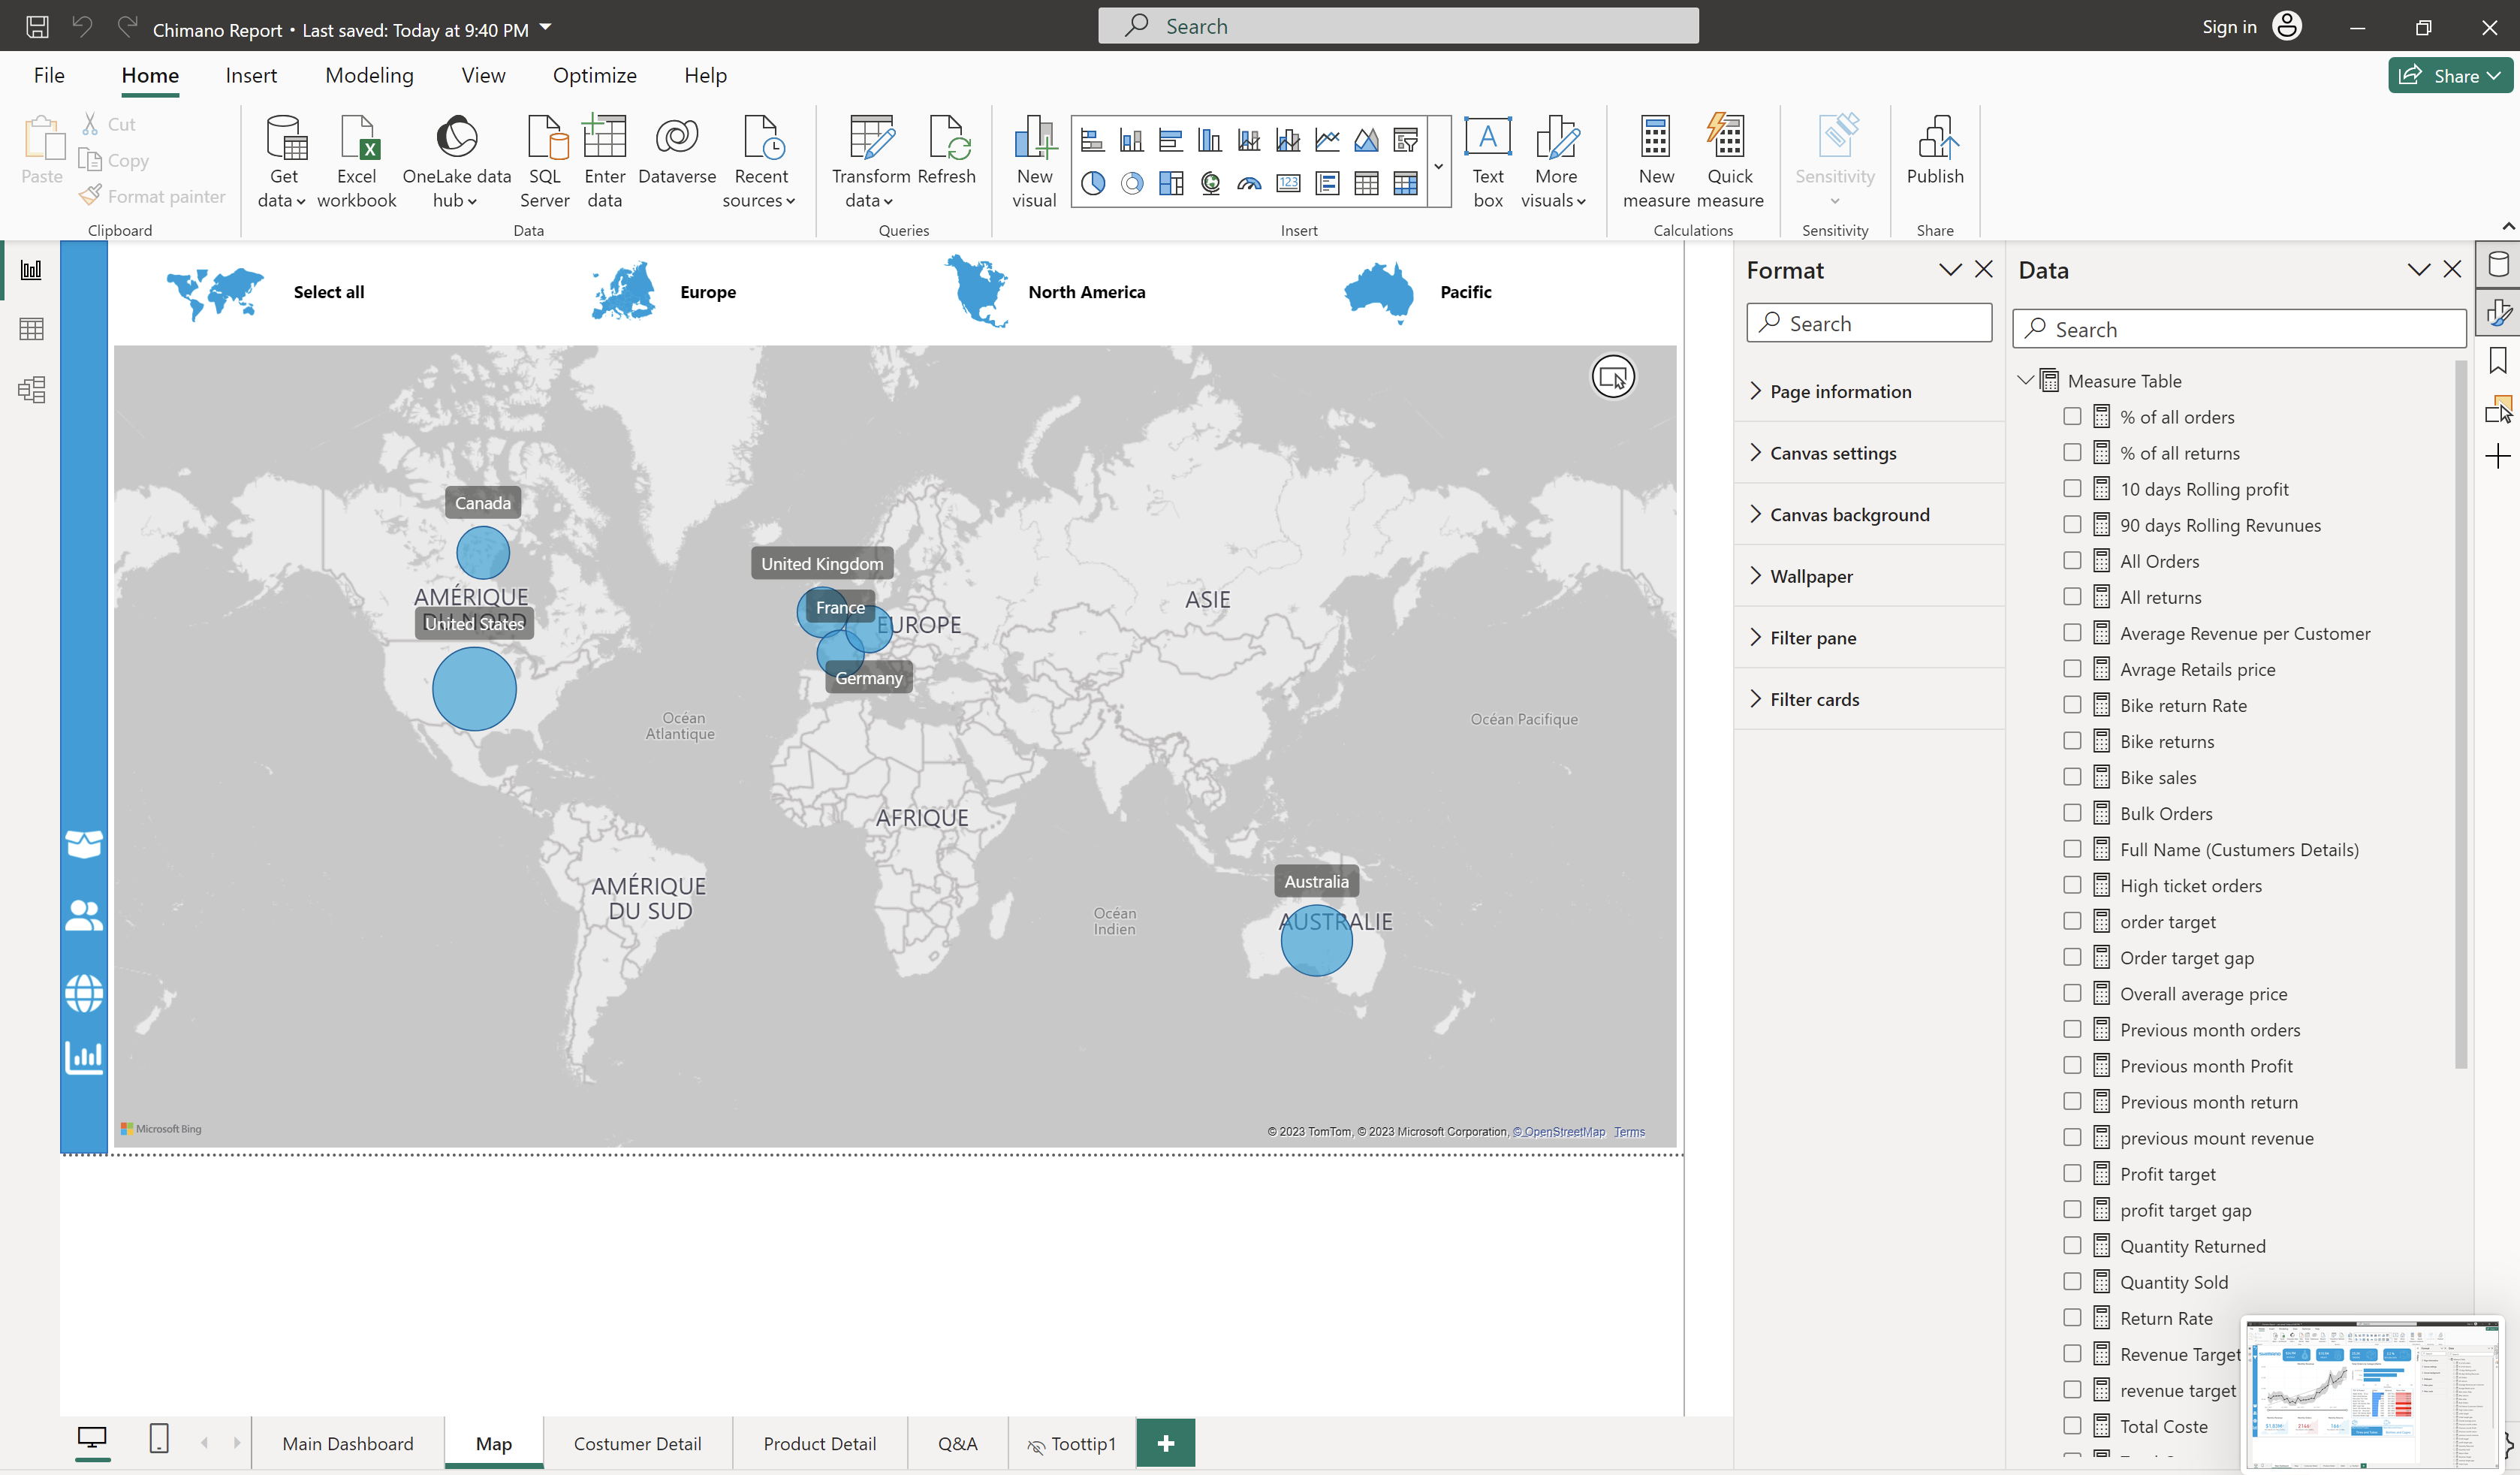

Layout of this report page (visuals, bound fields, positions):
{"tool":"powerbi","page":{"name":"Map","canvas":[1280,720],"ordinal":1},"visuals":[{"type":"shape","title":"Side bar","box":[0,0,37.8,720],"z":0},{"type":"map","fields":{"Category":["Territory Lookup.Country"],"Size":["Measure Table.Total Orders"]},"box":[38.1,78,1242.1,642],"z":1000},{"type":"slicer","fields":{"Values":["Territory Lookup.Continent"]},"box":[38.1,1.9,1243,76.2],"z":2000},{"type":"actionButton","box":[0,572.7,38.2,40.9],"z":3000},{"type":"actionButton","box":[0,456.4,38.2,40.9],"z":4000},{"type":"actionButton","box":[0,511.8,38.2,40.9],"z":5000},{"type":"actionButton","box":[0,623.6,38.2,40.9],"z":6000},{"type":"image","box":[414.4,8.9,60,60],"z":7000},{"type":"image","box":[687.8,5.6,67.8,67.8],"z":8000},{"type":"image","box":[1007.8,8.9,64.4,64.4],"z":9000},{"type":"image","box":[78.9,0,86.7,86.7],"z":10000}]}

Visuals, with their boxes on the page's 1280x720 design canvas (x1, y1, x2, y2). These are canvas units, not pixel positions in the 2520x1475 screenshot, which may show the page scaled, cropped or inside an application window:
"Side bar" shape: Rect(0, 0, 38, 720)
map - Territory Lookup.Country x Measure Table.Total Orders: Rect(38, 78, 1280, 720)
slicer - Territory Lookup.Continent: Rect(38, 2, 1281, 78)
actionButton: Rect(0, 573, 38, 614)
actionButton: Rect(0, 456, 38, 497)
actionButton: Rect(0, 512, 38, 553)
actionButton: Rect(0, 624, 38, 664)
image: Rect(414, 9, 474, 69)
image: Rect(688, 6, 756, 73)
image: Rect(1008, 9, 1072, 73)
image: Rect(79, 0, 166, 87)
